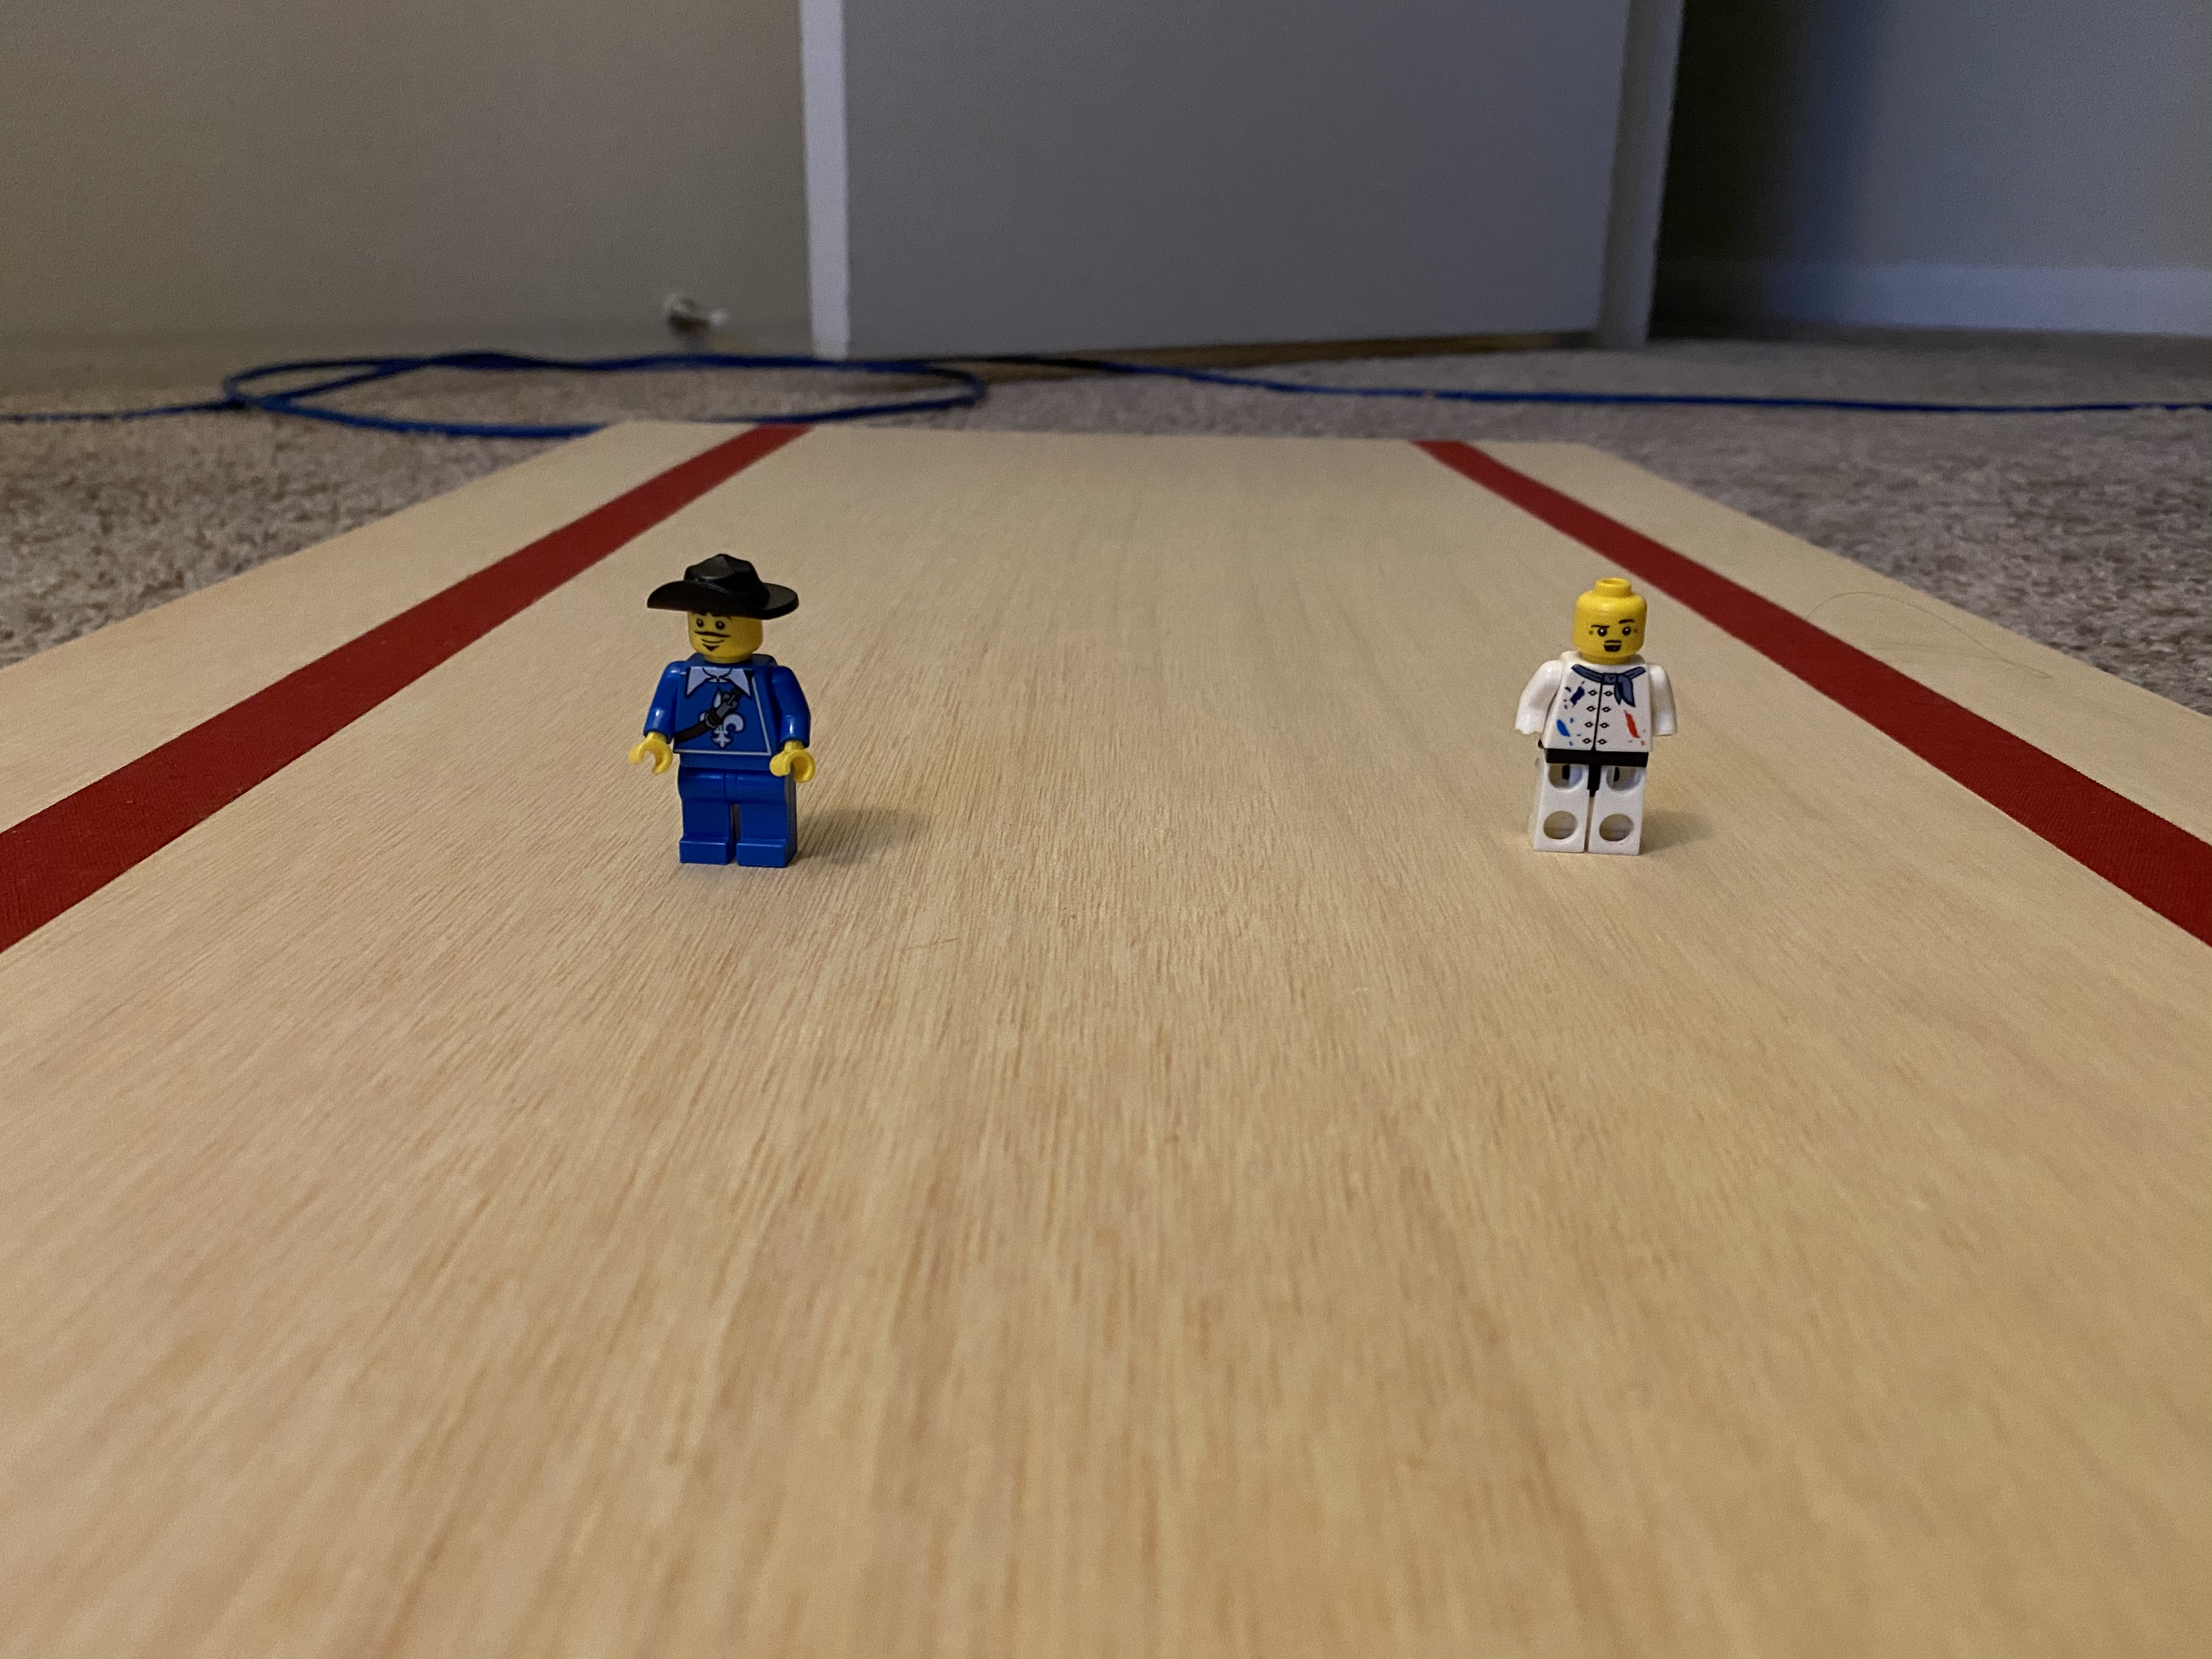Person: (589, 550, 877, 893), (1467, 560, 1737, 875)
